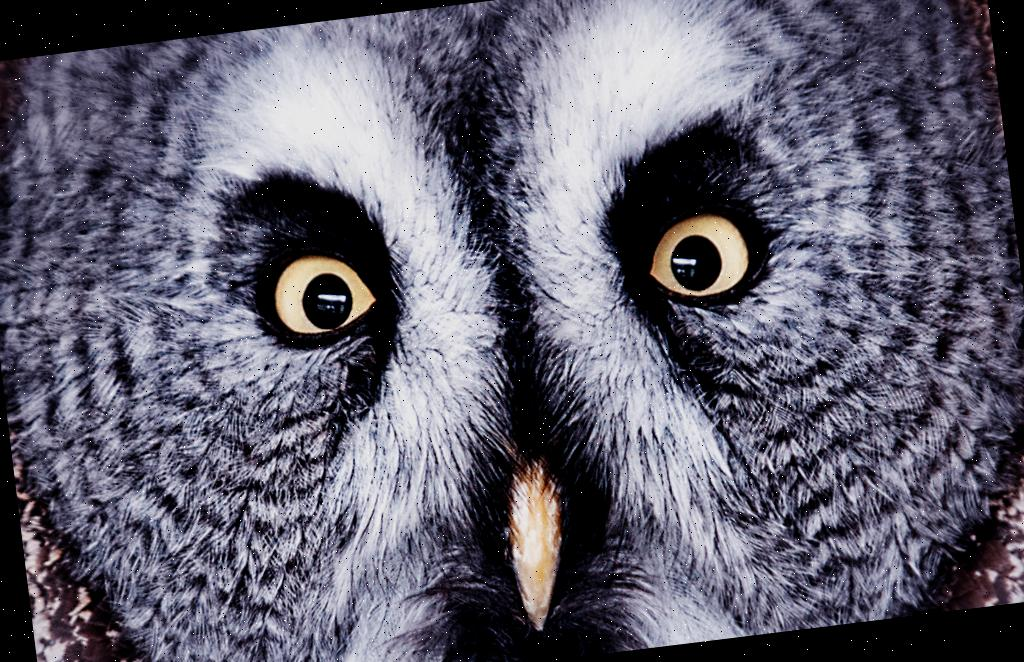Owl: (82, 20, 984, 618)
